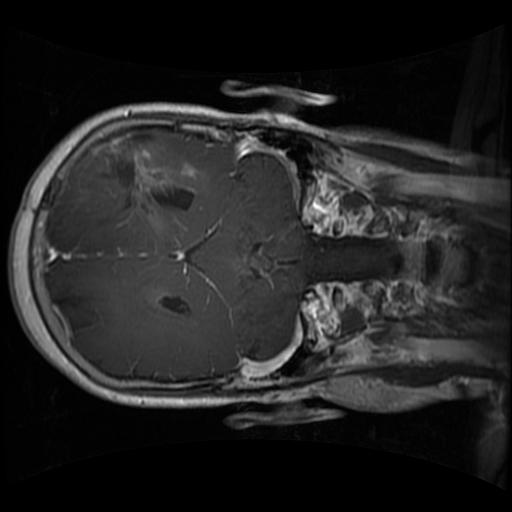glioma: (72, 132, 196, 232)
